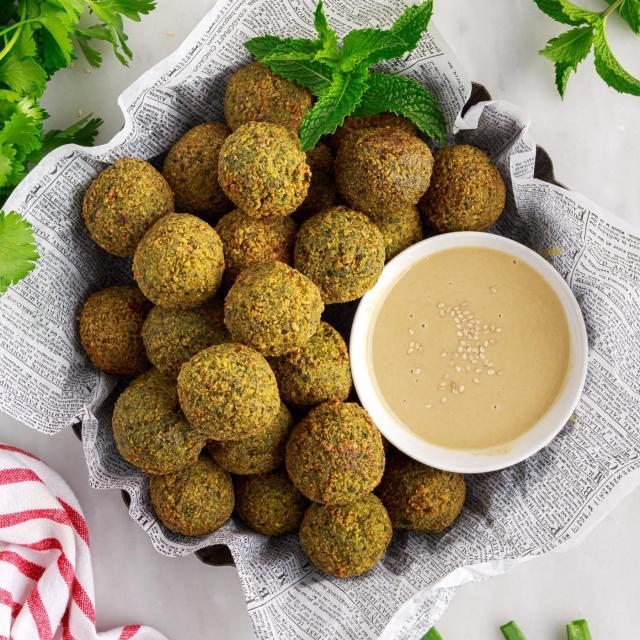flafel: (171, 346, 280, 441), (220, 123, 316, 221), (227, 261, 327, 355), (289, 401, 379, 501), (135, 214, 223, 308), (300, 208, 384, 300), (340, 130, 430, 214), (84, 285, 146, 372)
